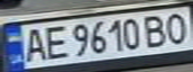0: (121, 16, 145, 51)
1: (106, 17, 127, 52)
6: (87, 18, 109, 55)
9: (69, 20, 90, 57)
A: (18, 25, 51, 63)
B: (139, 12, 172, 48)
E: (39, 22, 69, 61)
O: (160, 10, 193, 45)
